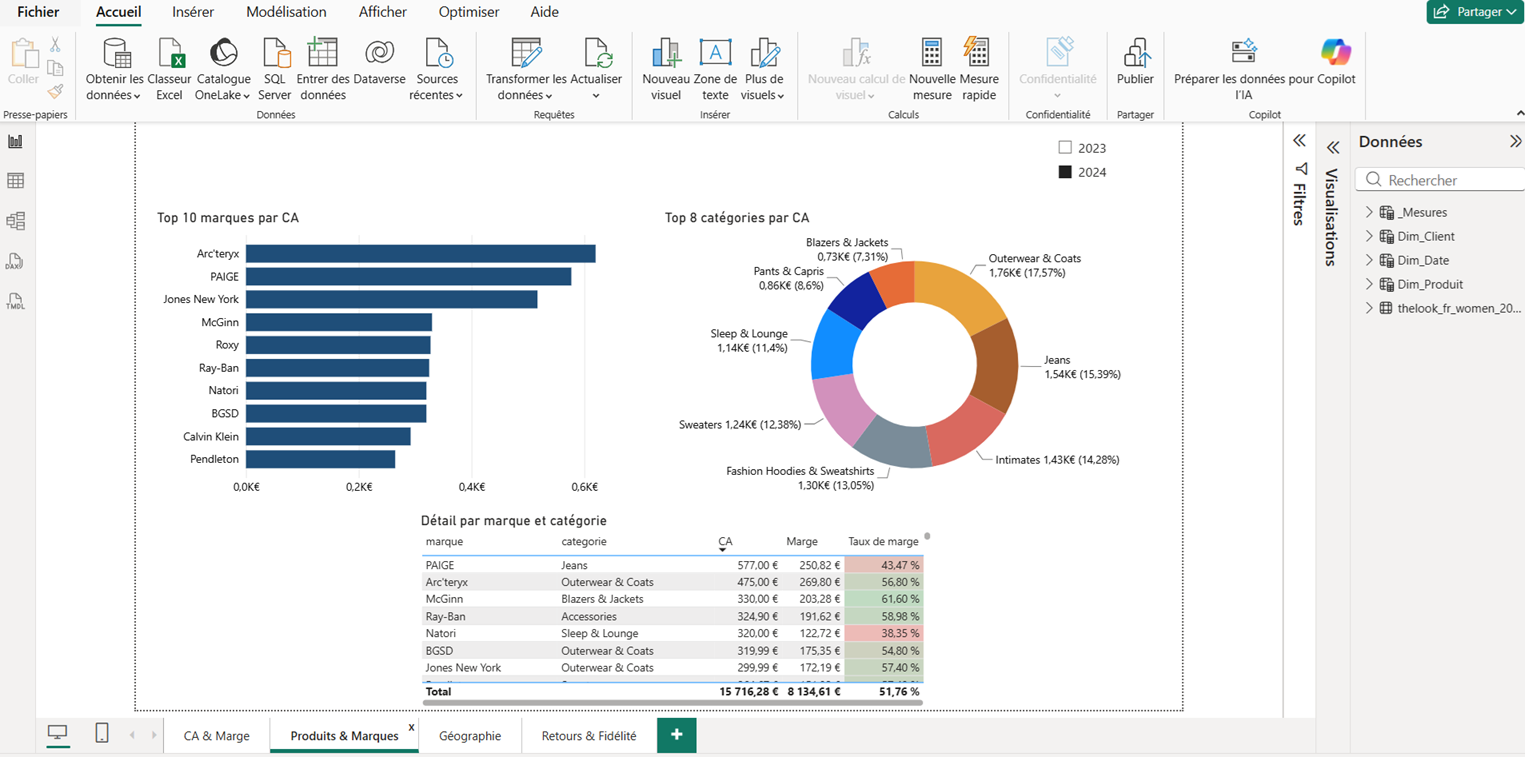

The dashboard page shown, as its layout file describes it:
{"tool":"powerbi","page":{"name":"Produits & Marques","canvas":[1280,720],"ordinal":1},"visuals":[{"type":"slicer","fields":{"Values":["Dim_Date.Année","Dim_Date.Année"]},"box":[1092.3,12.3,171.5,79.6],"z":0},{"type":"clusteredBarChart","title":"Top 10 marques par CA","fields":{"Category":["Dim_Produit.marque"],"Y":["_Mesures.CA"]},"box":[20.6,107,618.9,359.5],"z":1000},{"type":"donutChart","title":"Top 8 catégories par CA","fields":{"Category":["Dim_Produit.categorie"],"Y":["_Mesures.CA"]},"box":[642.2,107,621.6,360.9],"z":2000},{"type":"tableEx","title":"Détail par marque et catégorie","fields":{"Values":["Dim_Produit.marque","Dim_Produit.categorie","_Mesures.CA","_Mesures.Marge","_Mesures.Taux de marge"]},"box":[343.1,477.5,634,242.9],"z":3000}]}

Visuals, with their boxes on the page's 1280x720 design canvas (x1, y1, x2, y2). These are canvas units, not pixel positions in the 1525x757 screenshot, which may show the page scaled, cropped or inside an application window:
slicer - Dim_Date.Année x Dim_Date.Année: box=[1092, 12, 1264, 92]
"Top 10 marques par CA" clusteredBarChart: box=[21, 107, 640, 466]
"Top 8 catégories par CA" donutChart: box=[642, 107, 1264, 468]
"Détail par marque et catégorie" tableEx: box=[343, 478, 977, 720]
